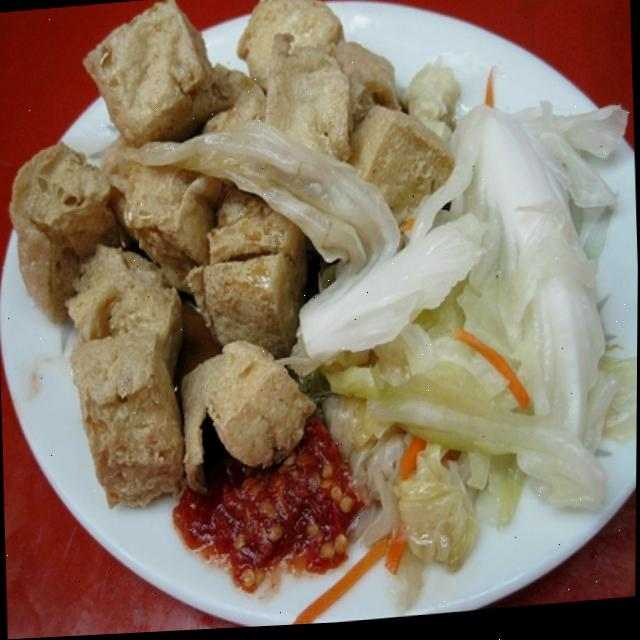豆腐料理: (3, 0, 626, 616)
